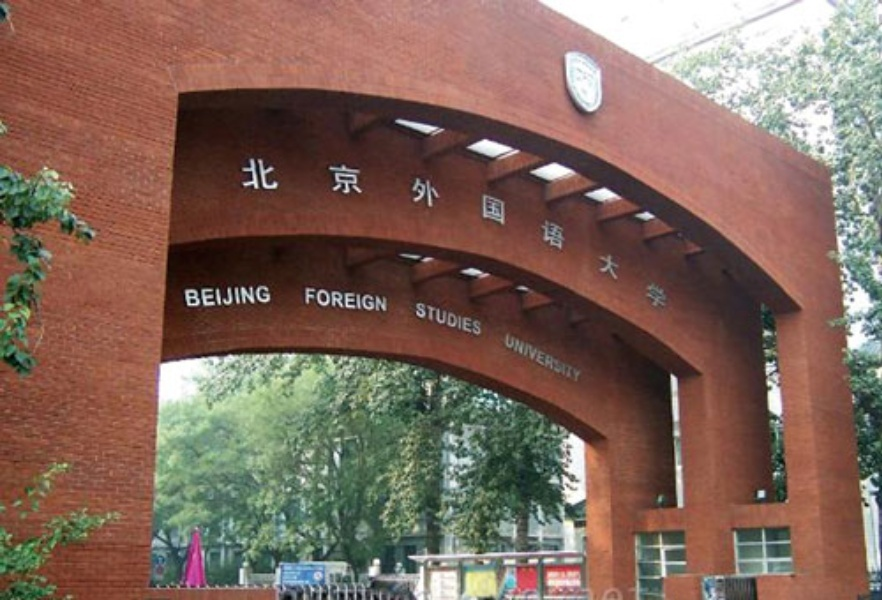text: (257, 124, 272, 315), (273, 124, 288, 315), (289, 124, 304, 315), (305, 124, 320, 315), (321, 124, 336, 315), (337, 124, 352, 315), (353, 124, 368, 315), (369, 124, 384, 315), (385, 124, 400, 315), (401, 124, 416, 315), (417, 124, 432, 315), (433, 124, 448, 315), (449, 124, 464, 315), (465, 124, 480, 315), (481, 124, 496, 315), (497, 124, 512, 315), (513, 124, 528, 315), (529, 124, 544, 315), (545, 124, 560, 315), (561, 124, 576, 315), (577, 124, 592, 315), (593, 124, 608, 315), (609, 124, 624, 315), (625, 124, 640, 315), (641, 124, 656, 315), (657, 124, 672, 315), (673, 124, 685, 315), (251, 124, 256, 315), (513, 331, 528, 387), (529, 331, 544, 387), (545, 331, 560, 387), (561, 331, 576, 387), (433, 301, 448, 338), (449, 301, 464, 338), (465, 301, 480, 338), (419, 301, 432, 338), (305, 285, 320, 313), (321, 285, 336, 313), (337, 285, 352, 313), (353, 285, 368, 313), (369, 285, 384, 313), (577, 331, 584, 387), (193, 285, 208, 308), (209, 285, 224, 308), (225, 285, 240, 308), (241, 285, 256, 308), (257, 285, 272, 308), (385, 285, 392, 313), (481, 301, 486, 338), (184, 285, 192, 308), (509, 331, 512, 387)
